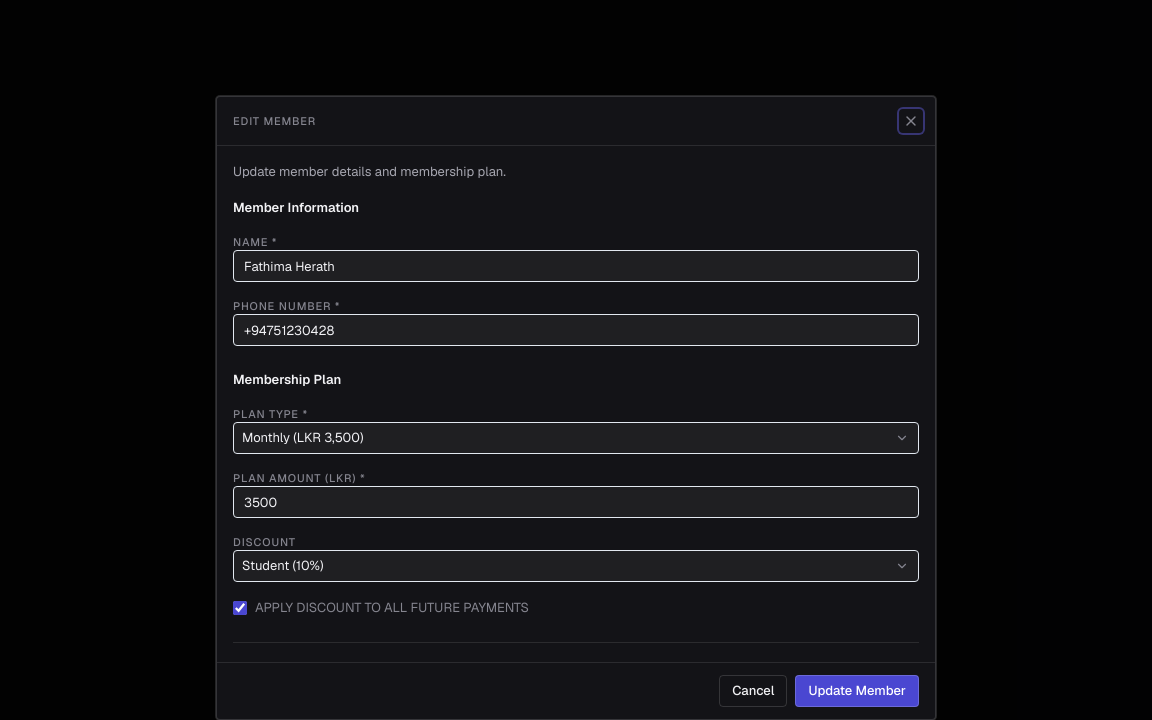
Test case: EditMemberModal — validation › asks for an amount instead of printing zod internals when it is cleared
The width and height of the screenshot is (1152, 720).
Clear the number field labelled "Plan Amount (LKR) *" at (576, 502), box [233,486,919,518]
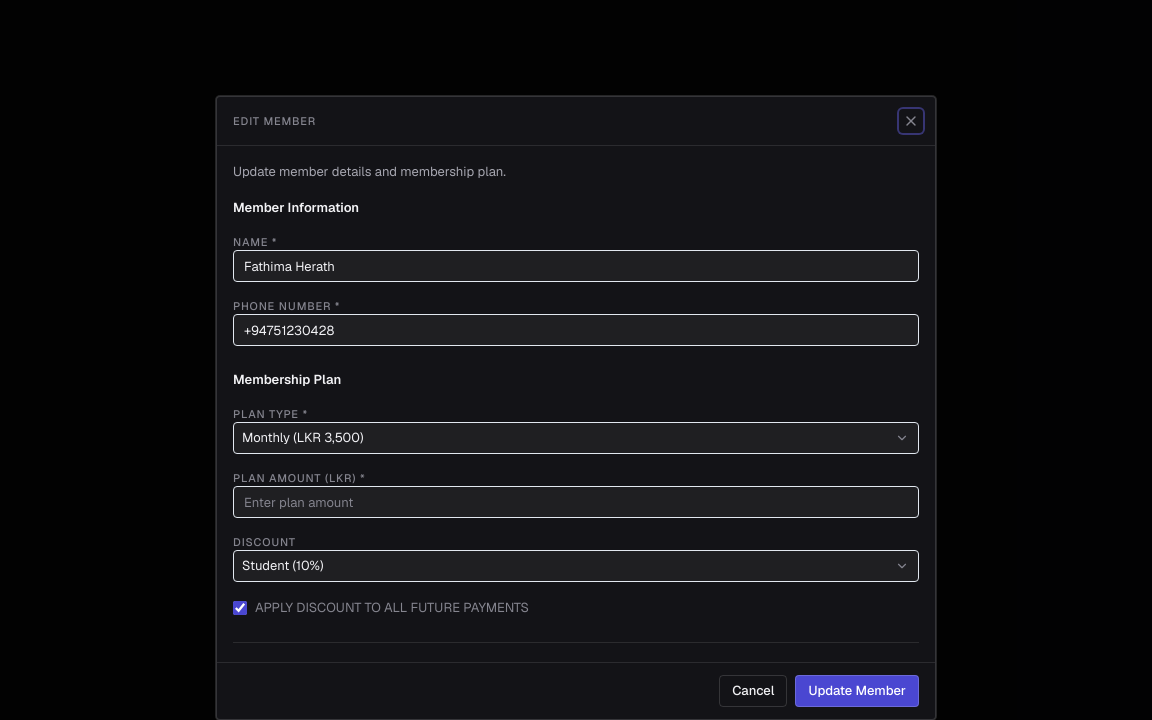
Click the button "Update Member" at (857, 691), box [795,675,919,707]
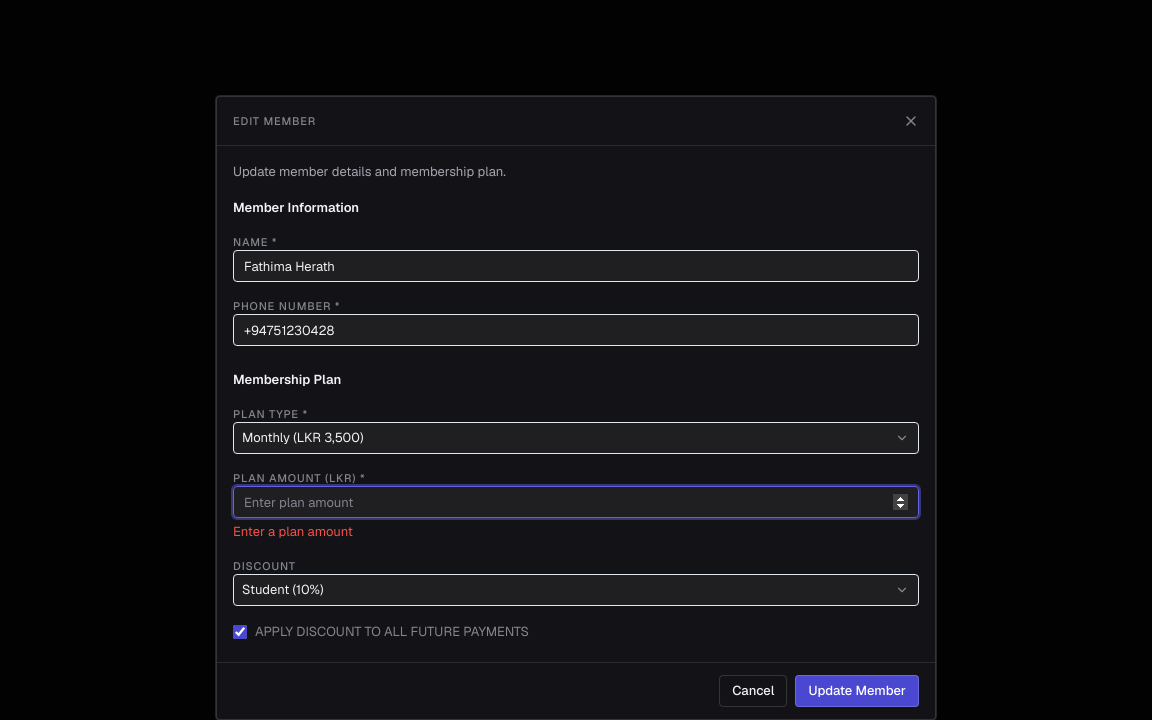
Check: the text "Enter a plan amount" is shown, box [233,523,353,540]
